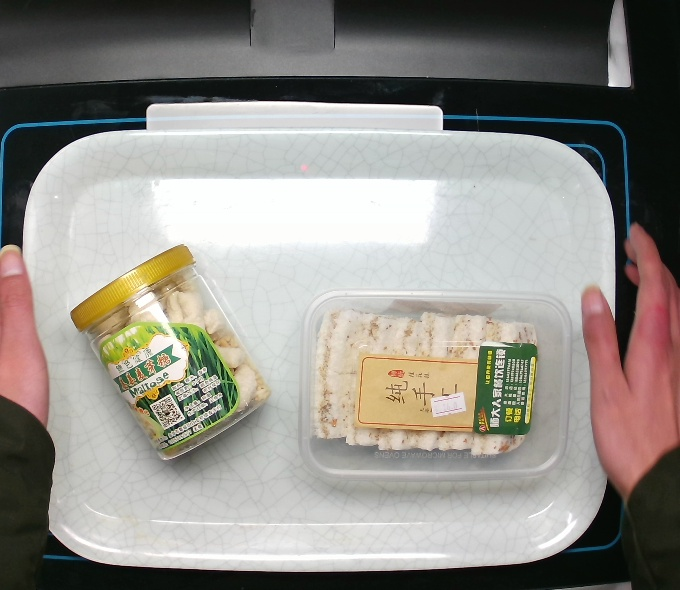wcq-GuiHuaGao: (295, 282, 577, 486)
wcq-MaiYaTang: (66, 241, 275, 462)
